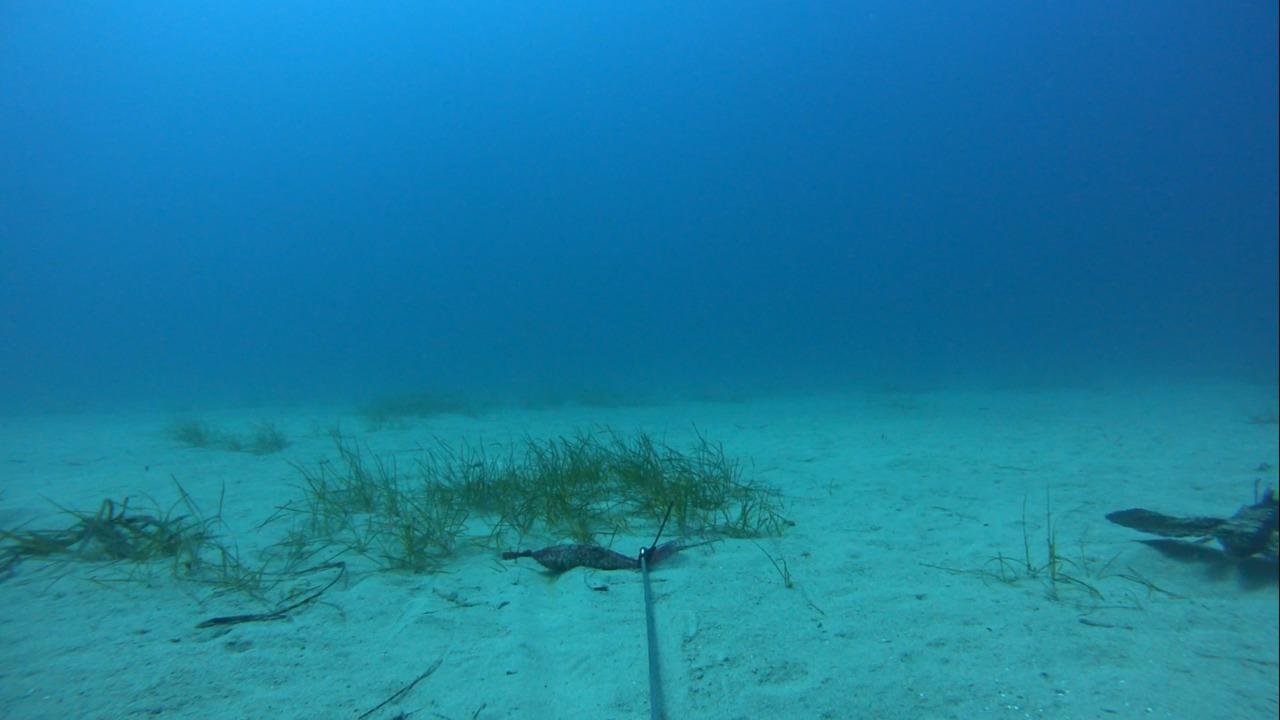dactylopterus: (1099, 473, 1279, 584)
